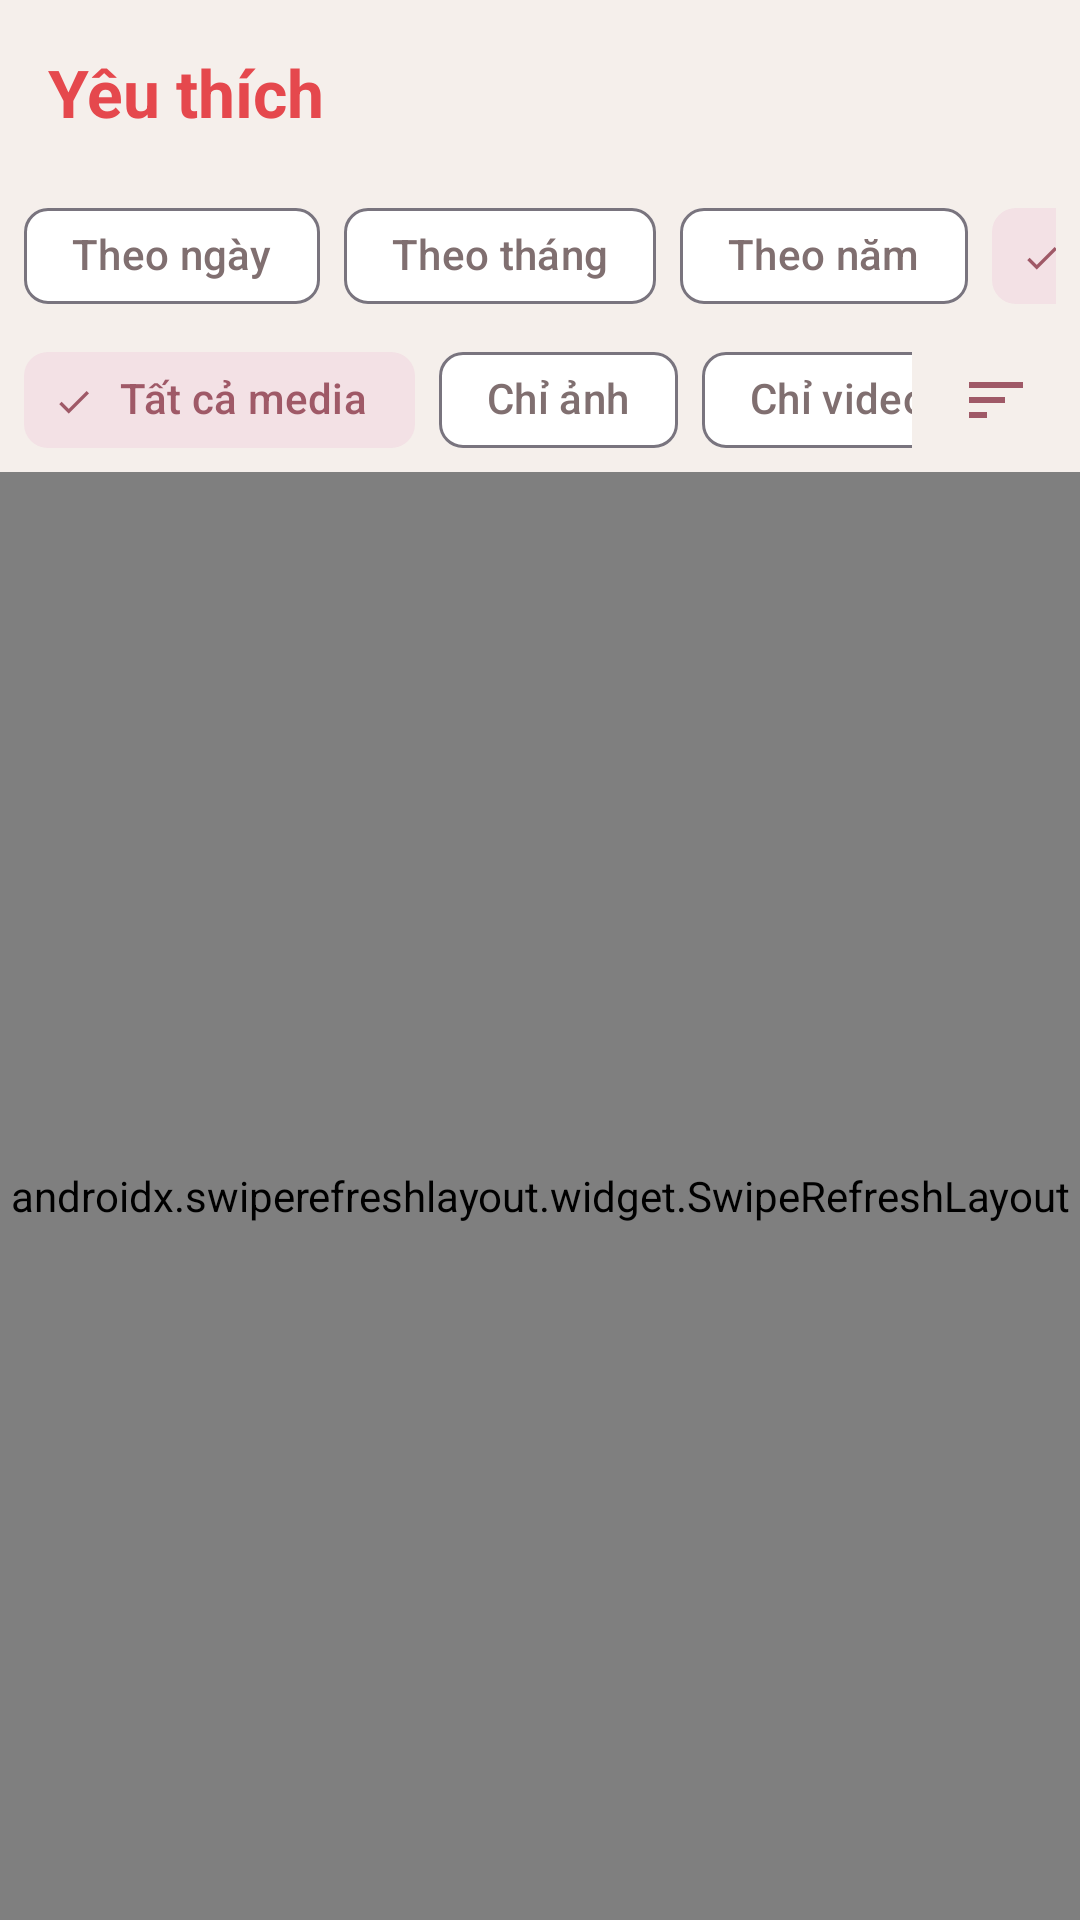

Icons on this 1080w x 1920h Android screen, each with the point to tap as [x,y]:
Sắp xếp theo: [996,400]
